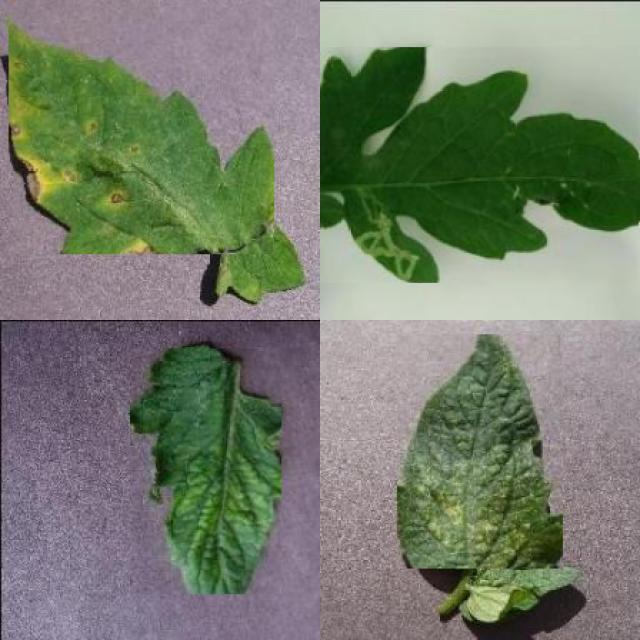Leaf Miner: (320, 47, 639, 283)
Mosaic Virus: (130, 348, 281, 595)
Septoria: (8, 7, 275, 254)
Spider Mites: (397, 334, 563, 569)
